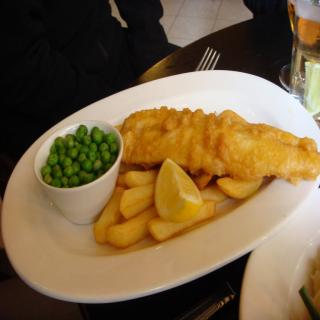French fries: (93, 167, 158, 254)
Lemon: (154, 157, 204, 223)
